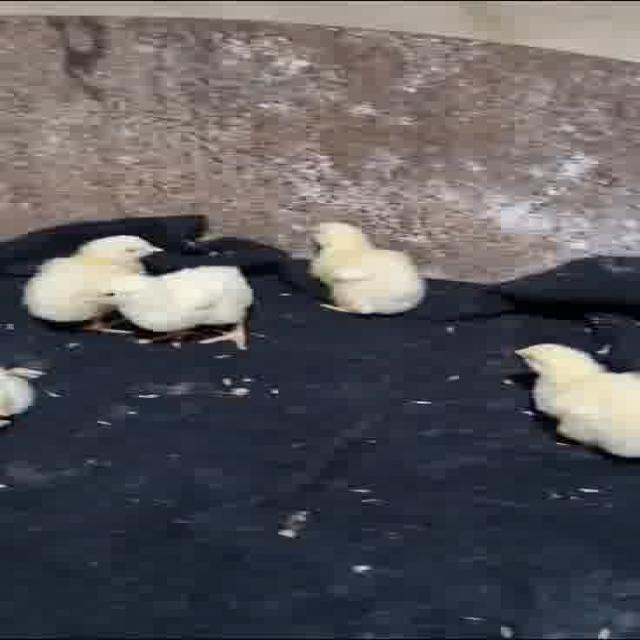poussin: (85, 255, 260, 351), (510, 337, 640, 461), (21, 232, 166, 334), (290, 218, 422, 316)
